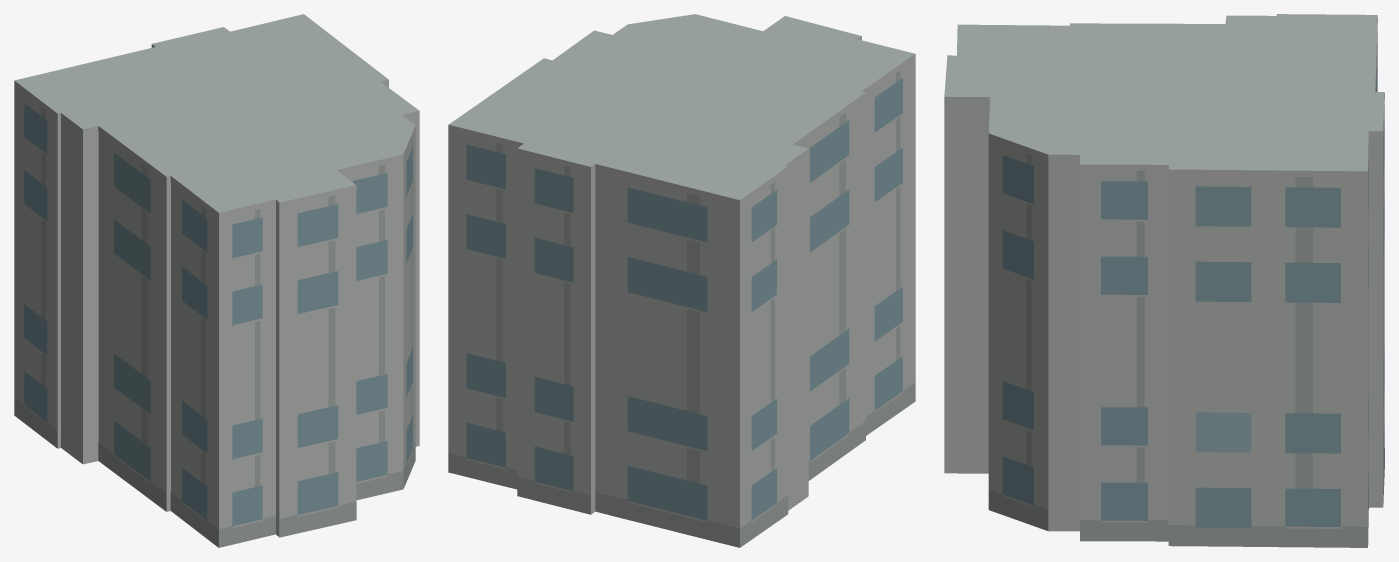
The model's file is survey-upis-32762756.glb.
The picture shows the model from 3 angles, left to right: view 1: azimuth 30°, elevation 25°; view 2: azimuth 150°, elevation 25°; view 3: azimuth 270°, elevation 25°; orthographic projection. The views are drawn at different scales.
Parts seen in each view (by area): view 1: survey-upis-32762756.tmp; view 2: survey-upis-32762756.tmp; view 3: survey-upis-32762756.tmp.
Boxes of the visible parts, x1,y1,x2,y2 form: survey-upis-32762756.tmp: (14, 14, 419, 547); survey-upis-32762756.tmp: (448, 14, 915, 547); survey-upis-32762756.tmp: (944, 14, 1384, 547).
Bounding box in the file's own units: 13 × 14.5 × 15.38.
